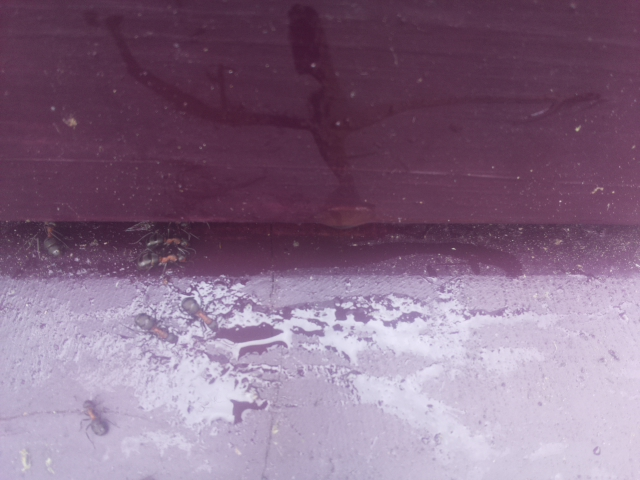ant: (135, 233, 196, 272), (126, 306, 180, 348), (173, 290, 222, 336), (79, 389, 114, 443), (37, 218, 64, 258)
